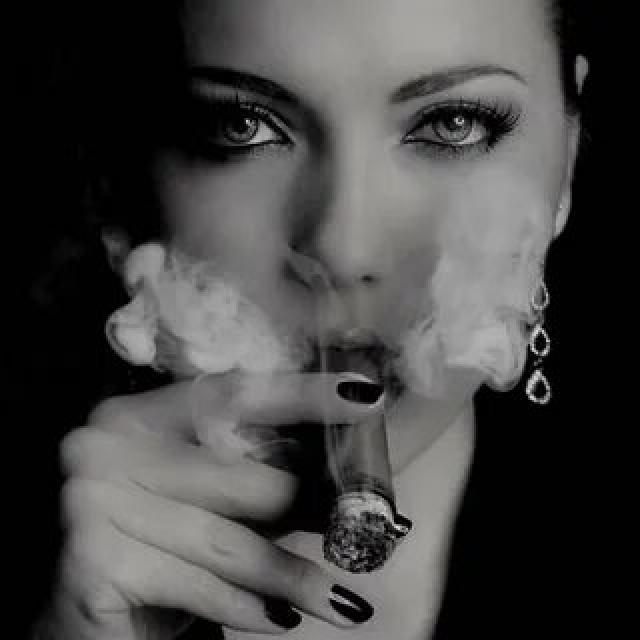cigarette: (294, 332, 418, 582)
